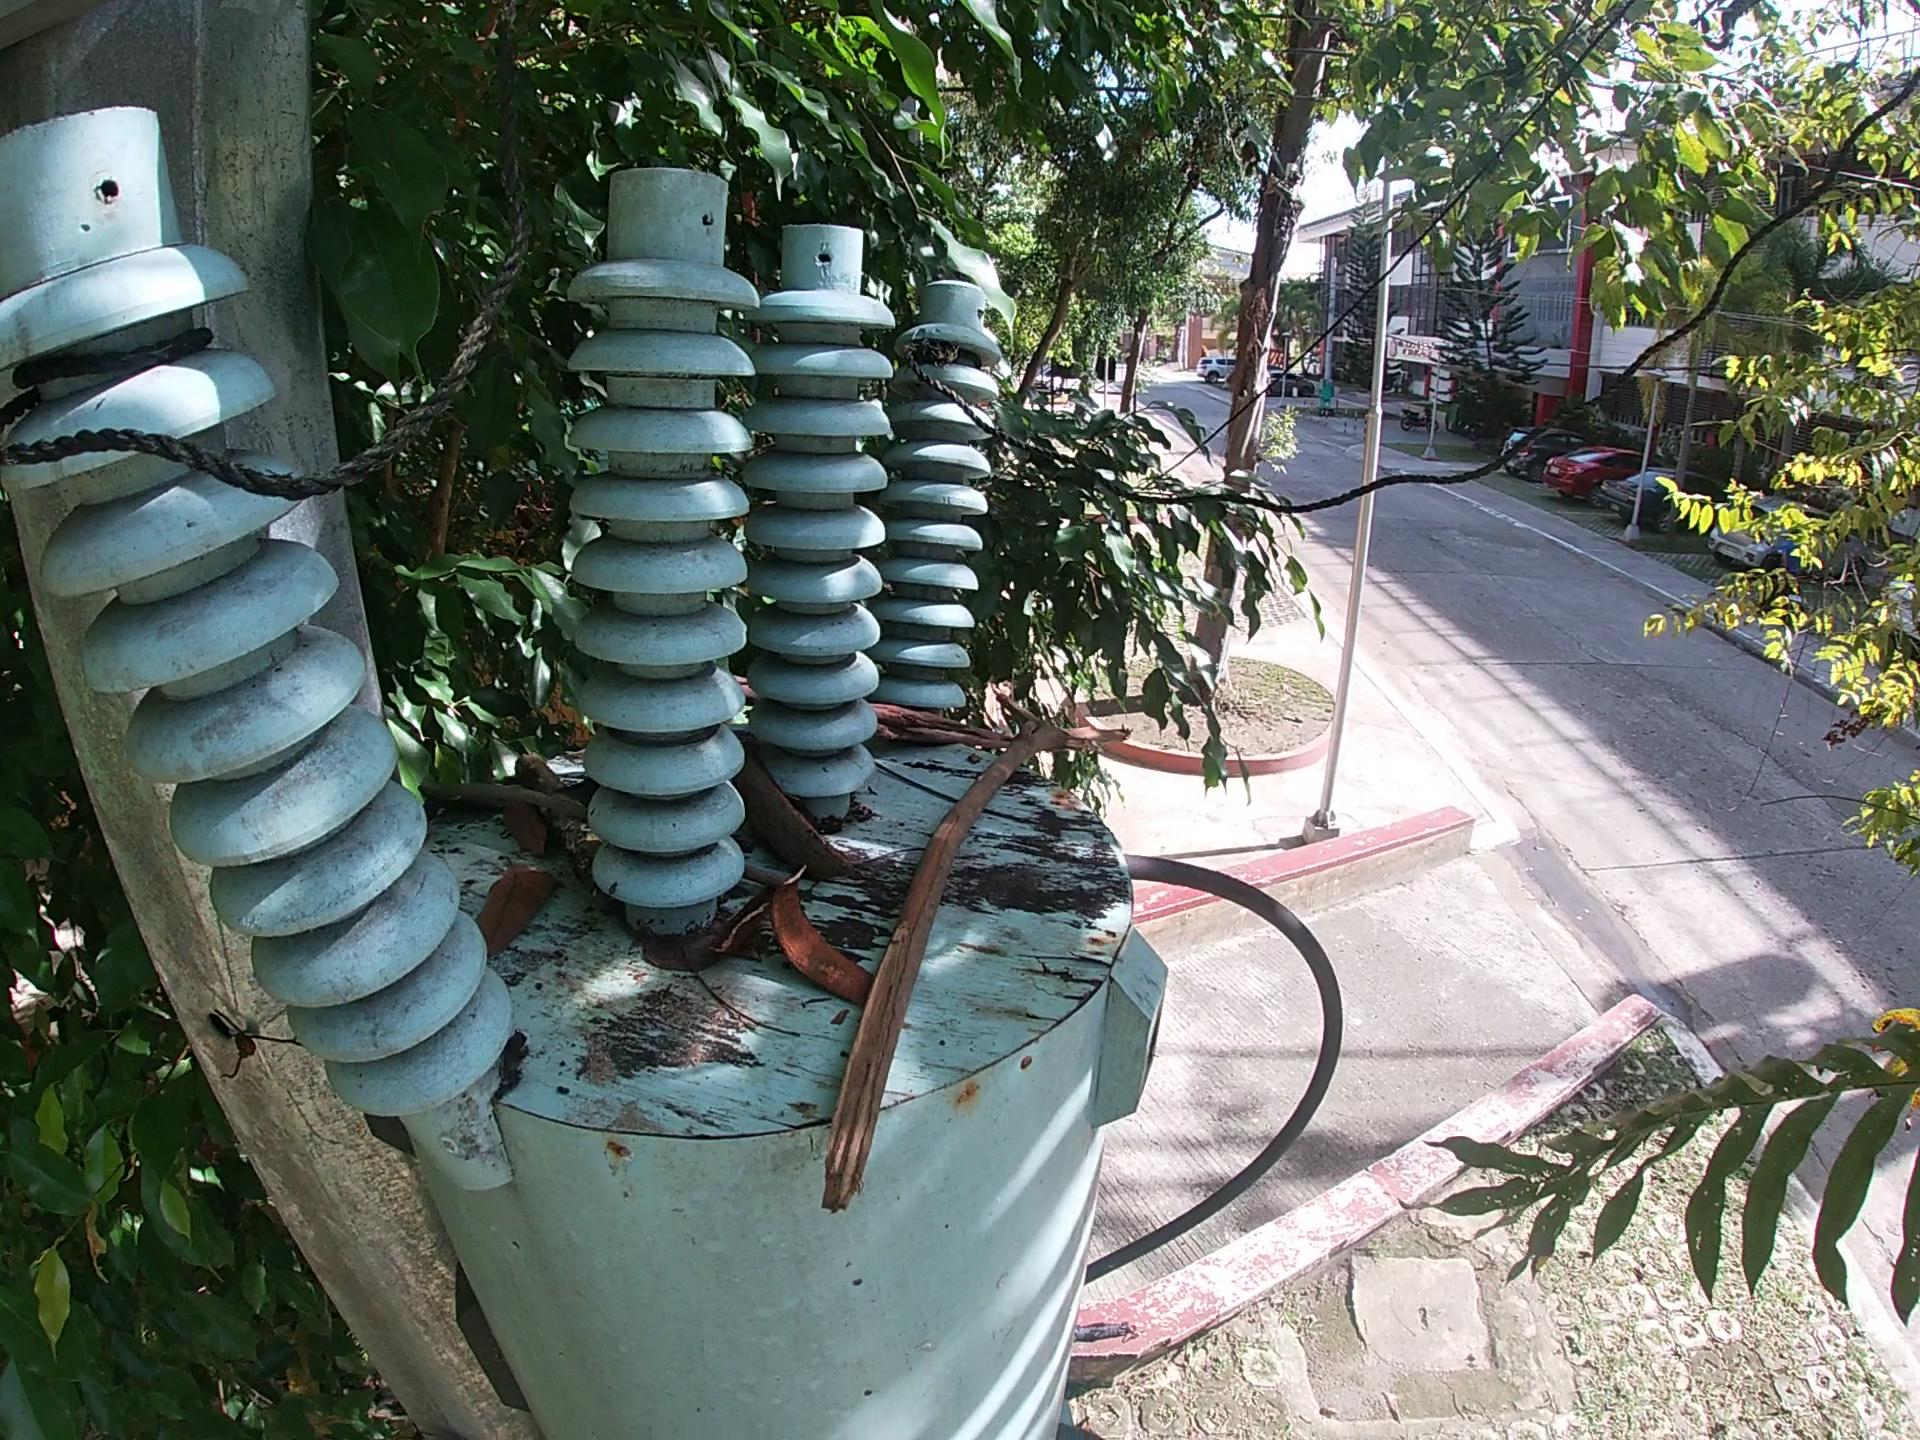leaf: (472, 855, 561, 961), (630, 933, 715, 973), (503, 799, 550, 859)
mahogany fruit: (768, 864, 878, 1010), (735, 750, 856, 880), (711, 883, 777, 959)
tree branch: (819, 691, 1141, 1224), (513, 750, 606, 903), (863, 696, 1008, 753), (416, 777, 590, 823), (738, 862, 789, 889)
